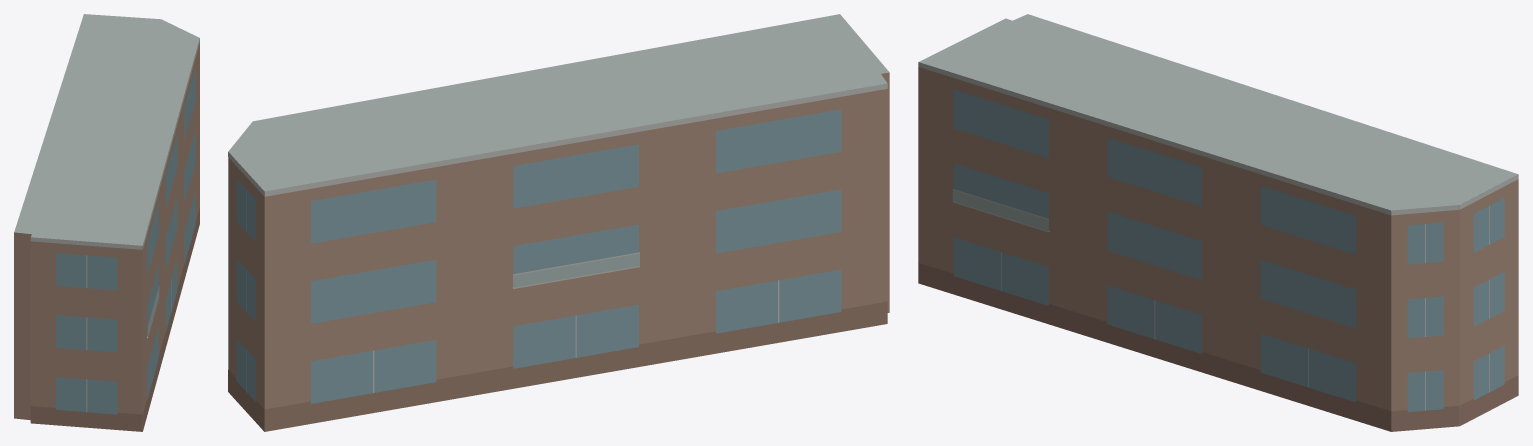
The model's file is survey-upis-32615717.glb.
3 renders of one model, left to right at view 1: azimuth 30°, elevation 25°; view 2: azimuth 150°, elevation 25°; view 3: azimuth 270°, elevation 25°, orthographic. The views are drawn at different scales.
Parts seen in each view (by area): view 1: survey-upis-32615717.tmp; view 2: survey-upis-32615717.tmp; view 3: survey-upis-32615717.tmp.
Part boxes in pixels (x1=…): survey-upis-32615717.tmp: x1=14, y1=14, x2=199, y2=431; survey-upis-32615717.tmp: x1=228, y1=14, x2=889, y2=431; survey-upis-32615717.tmp: x1=918, y1=14, x2=1518, y2=431.
Bounding box in the file's own units: 21.15 × 11.1 × 27.28.
